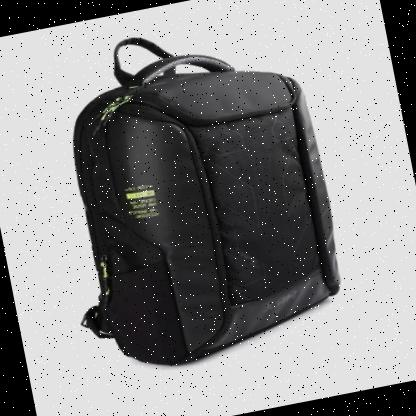bag: (38, 11, 362, 386)
